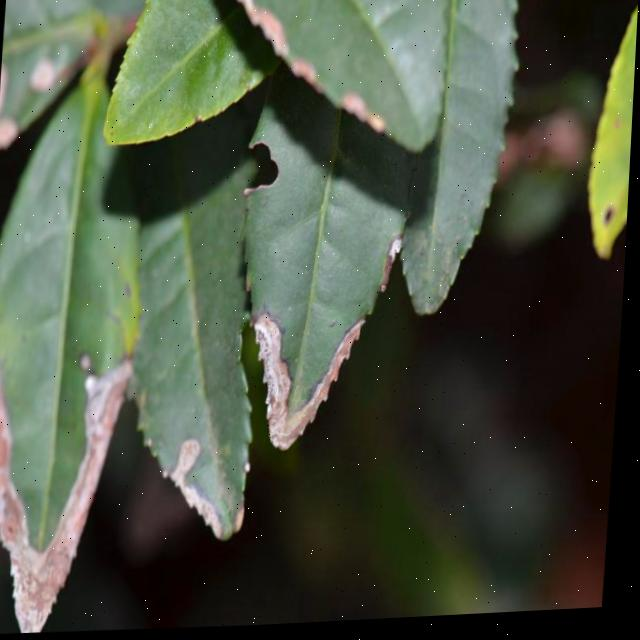Tea cloud leaf blight: (0, 360, 114, 623), (254, 256, 373, 458), (129, 383, 264, 546)
